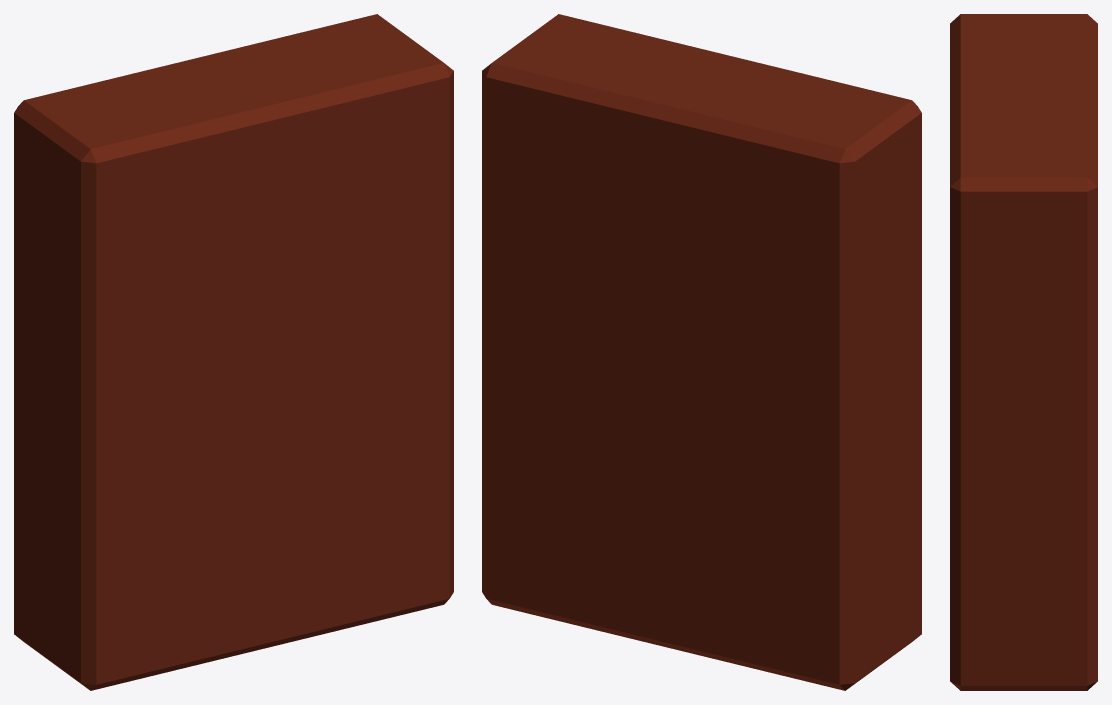
Rendered from Eraser1.glb.
3 views of the same model, side by side, from view 1: azimuth 30°, elevation 25°; view 2: azimuth 150°, elevation 25°; view 3: azimuth 270°, elevation 25° (orthographic). The views are drawn at different scales.
Visible parts, largest first — view 1: Eraser1; view 2: Eraser1; view 3: Eraser1.
Boxes of the visible parts, x1=… form: Eraser1: x1=14, y1=14, x2=453, y2=690; Eraser1: x1=482, y1=14, x2=921, y2=690; Eraser1: x1=950, y1=14, x2=1097, y2=690.
Bounding box in the file's own units: 0.0365 × 0.0507 × 0.0132.
